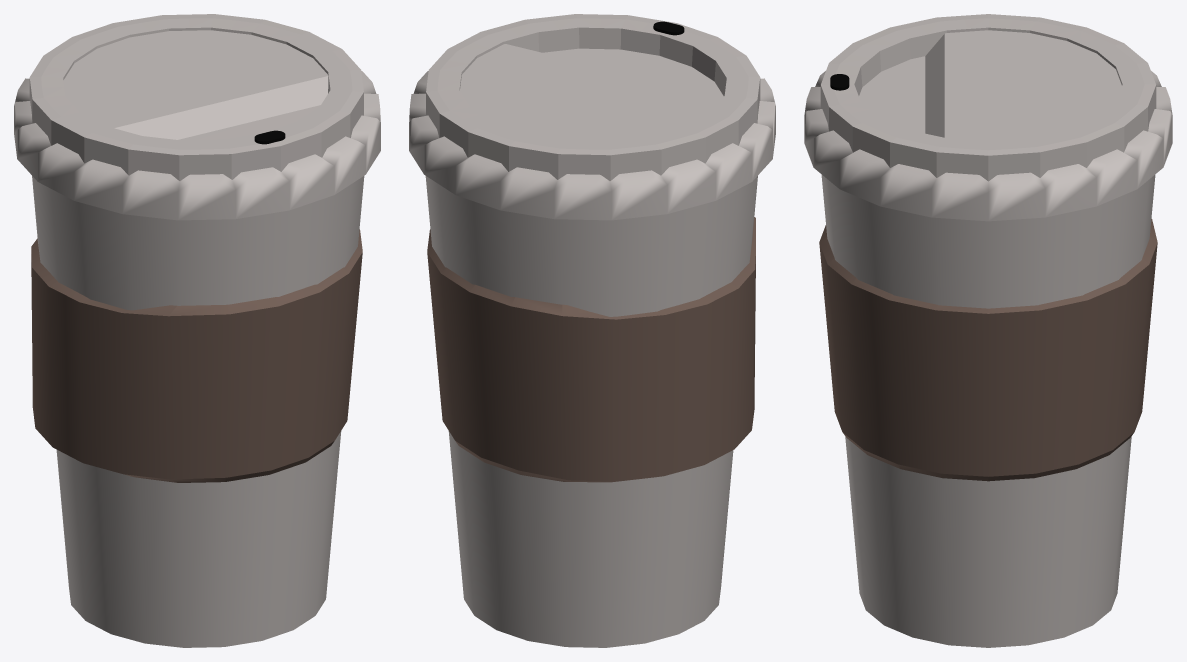
File: hot_cup.fbx
3 views of the same model, side by side, from view 1: azimuth 30°, elevation 25°; view 2: azimuth 150°, elevation 25°; view 3: azimuth 270°, elevation 25° (orthographic).
Parts seen in each view (by area): view 1: pasted__pCylinder7, pasted__pCylinder9, pasted__pCylinder10, pasted__pCylinder1; view 2: pasted__pCylinder7, pasted__pCylinder9, pasted__pCylinder10, pasted__pCylinder1; view 3: pasted__pCylinder7, pasted__pCylinder9, pasted__pCylinder10, pasted__pCylinder1.
Part boxes in pixels (bbox=[...]): pasted__pCylinder7: bbox=[32, 176, 364, 647]; pasted__pCylinder9: bbox=[31, 229, 362, 482]; pasted__pCylinder10: bbox=[29, 14, 363, 180]; pasted__pCylinder1: bbox=[14, 71, 380, 220]; pasted__pCylinder7: bbox=[425, 176, 757, 647]; pasted__pCylinder9: bbox=[427, 217, 755, 482]; pasted__pCylinder10: bbox=[426, 14, 760, 180]; pasted__pCylinder1: bbox=[409, 48, 775, 220]; pasted__pCylinder7: bbox=[821, 175, 1155, 647]; pasted__pCylinder9: bbox=[819, 218, 1157, 481]; pasted__pCylinder10: bbox=[820, 14, 1156, 181]; pasted__pCylinder1: bbox=[804, 56, 1172, 221].
Bounding box in the file's own units: 2.17 × 3.32 × 2.17.
